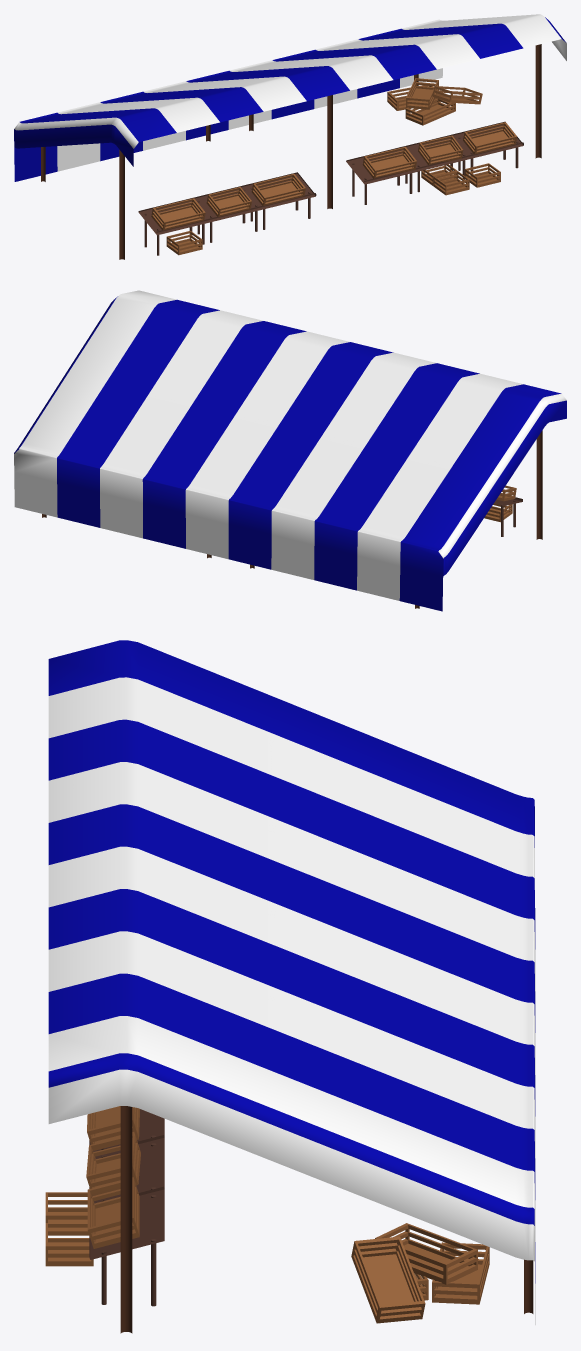
File: stand_b_2.fbx
The picture shows the model from 3 angles, top to bottom: view 1: azimuth 30°, elevation 25°; view 2: azimuth 150°, elevation 25°; view 3: azimuth 270°, elevation 25°; orthographic projection. The views are drawn at different scales.
Visible parts, largest first — view 1: StandeV2; view 2: StandeV2; view 3: StandeV2.
Part boxes in pixels (x1,y1,x2,y2): StandeV2: (14,14,566,259); StandeV2: (14,290,566,611); StandeV2: (45,640,535,1333).
Size of the model in its own units: 2512 by 793 by 1227.
